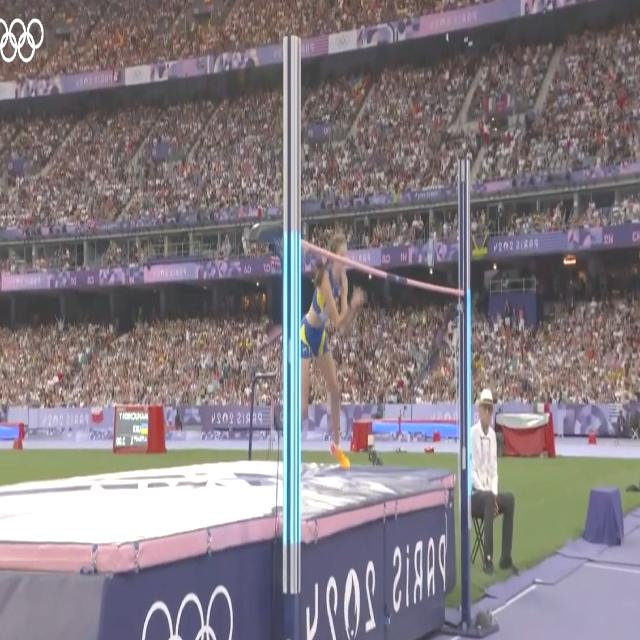land: (298, 238, 364, 470)
